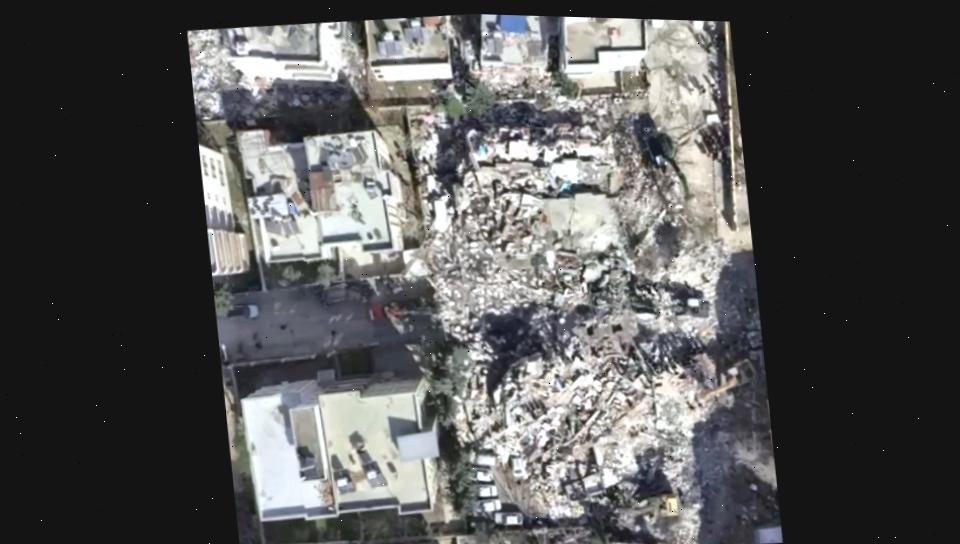kapali: (647, 76, 752, 544), (303, 252, 659, 353)
